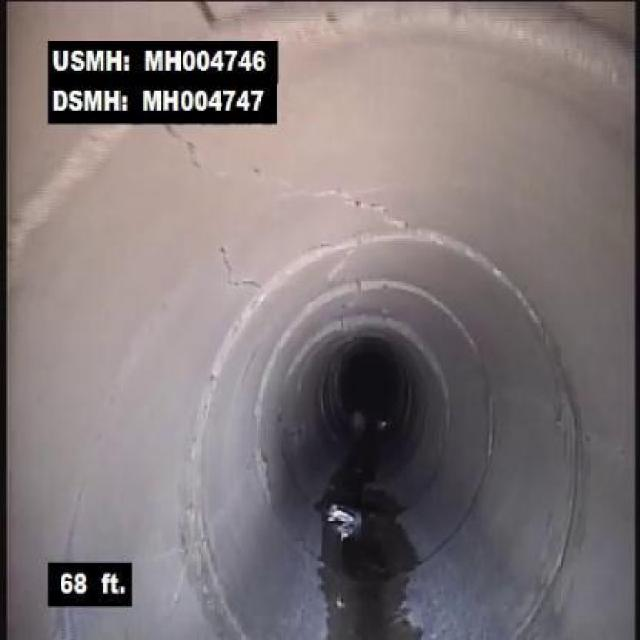Crack: (278, 174, 411, 232), (208, 240, 258, 298), (168, 125, 205, 172)
